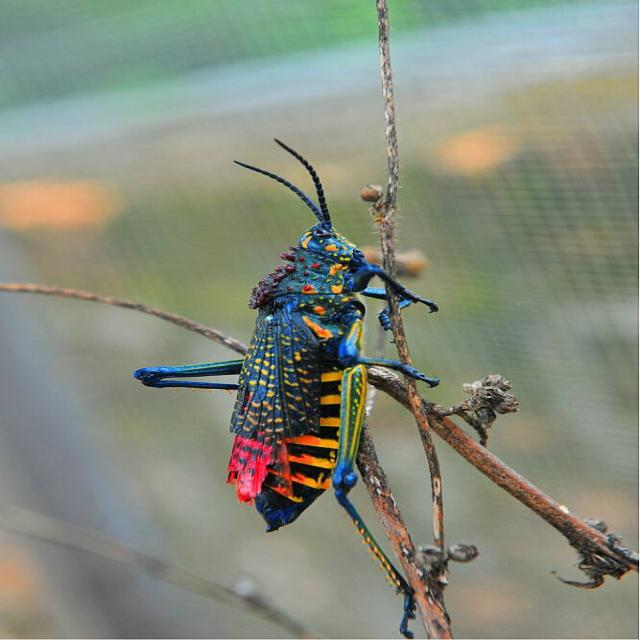ZhaMeng: (129, 120, 425, 553)
